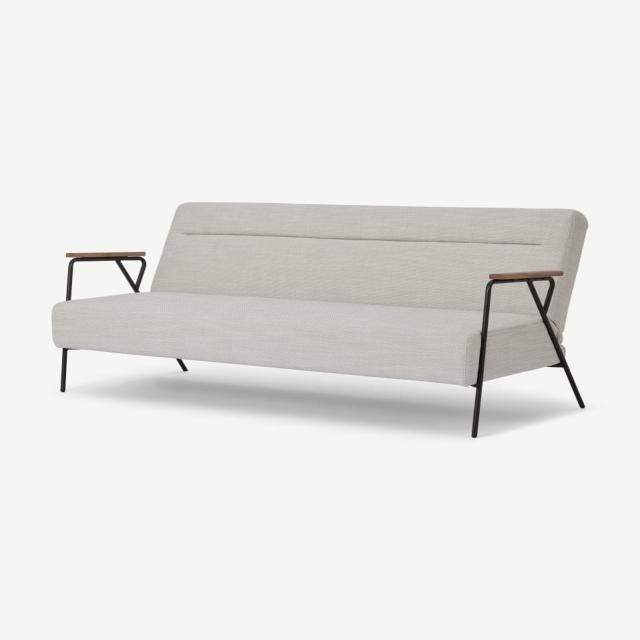back_cushion: (151, 201, 587, 333)
left_arm: (471, 270, 584, 438)
legs: (471, 404, 478, 437), (177, 359, 188, 371), (579, 400, 584, 408), (476, 390, 478, 403)
right_arm: (65, 252, 145, 300), (61, 351, 65, 391)
seat_cushion: (52, 292, 481, 386), (488, 312, 554, 379)
stallion-sofa: (0, 0, 639, 639)
